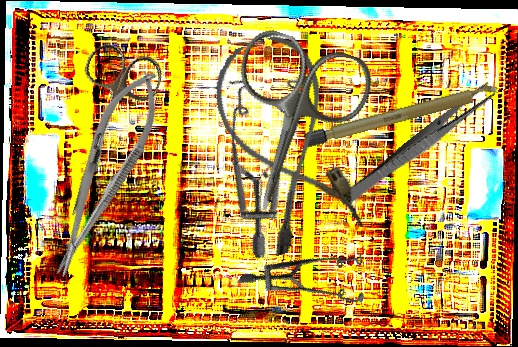Cannula: (201, 27, 368, 259)
Dressing Forceps: (336, 79, 499, 213)
Iris Scissors: (199, 23, 380, 231), (40, 39, 167, 229)
Needle Holder: (34, 59, 175, 287)
Scalpel Handle: (303, 81, 503, 149)
Speculum: (183, 54, 361, 261), (237, 205, 384, 345)
